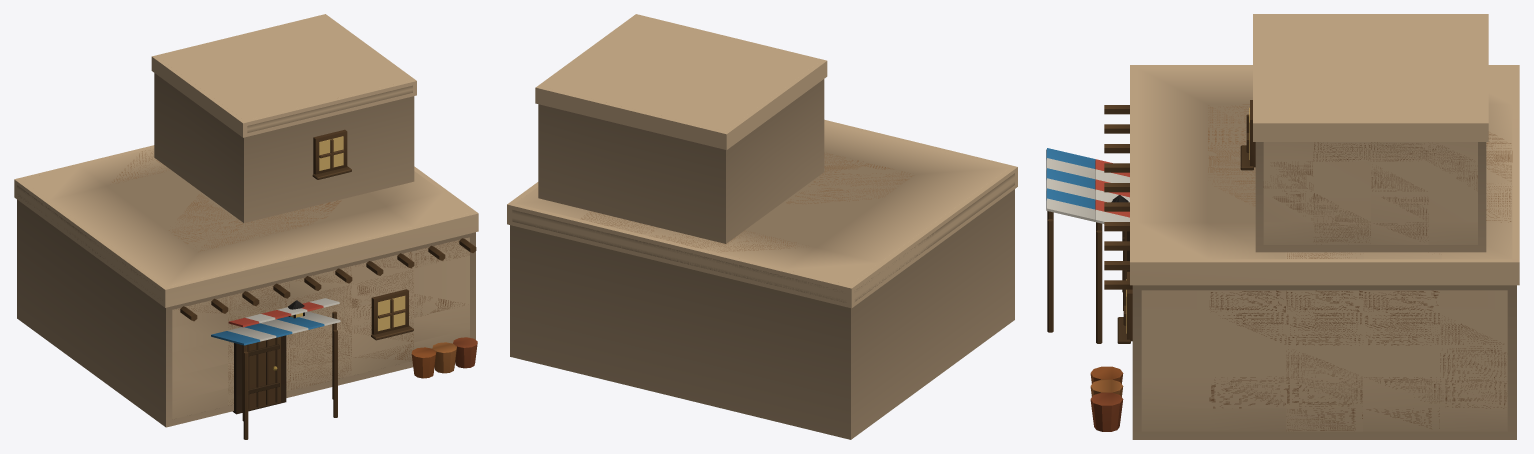
The model's file is houses-adobe.glb.
3 views of the same model, side by side, from view 1: azimuth 30°, elevation 25°; view 2: azimuth 150°, elevation 25°; view 3: azimuth 270°, elevation 25° (orthographic). The views are drawn at different scales.
Visible parts, largest first — view 1: house_adobe_l0, house_adobe_l0__lod, house_adobe_l1, house_adobe_l0__glow, house_adobe_s0; view 2: house_adobe_l0__lod, house_adobe_l0, house_adobe_l1; view 3: house_adobe_l0, house_adobe_l0__lod, house_adobe_l1, house_adobe_s0.
Boxes of the visible parts, x1,y1,x2,y2 form: house_adobe_l0: [17, 17, 477, 439]; house_adobe_l0__lod: [14, 14, 478, 427]; house_adobe_l1: [112, 150, 469, 405]; house_adobe_l0__glow: [290, 136, 405, 331]; house_adobe_s0: [228, 298, 339, 421]; house_adobe_l0__lod: [507, 14, 1017, 439]; house_adobe_l0: [512, 17, 1014, 302]; house_adobe_l1: [581, 153, 913, 251]; house_adobe_l0: [1046, 16, 1512, 431]; house_adobe_l0__lod: [1111, 14, 1519, 439]; house_adobe_l1: [1208, 104, 1512, 430]; house_adobe_s0: [1095, 159, 1129, 343].
Bounding box in the file's own units: 9.1 × 6.7 × 9.23.
